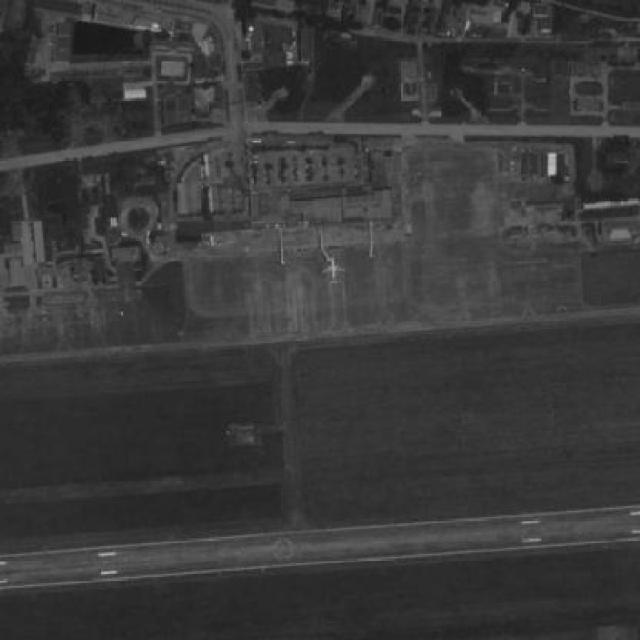airplane: (320, 258, 351, 289)
